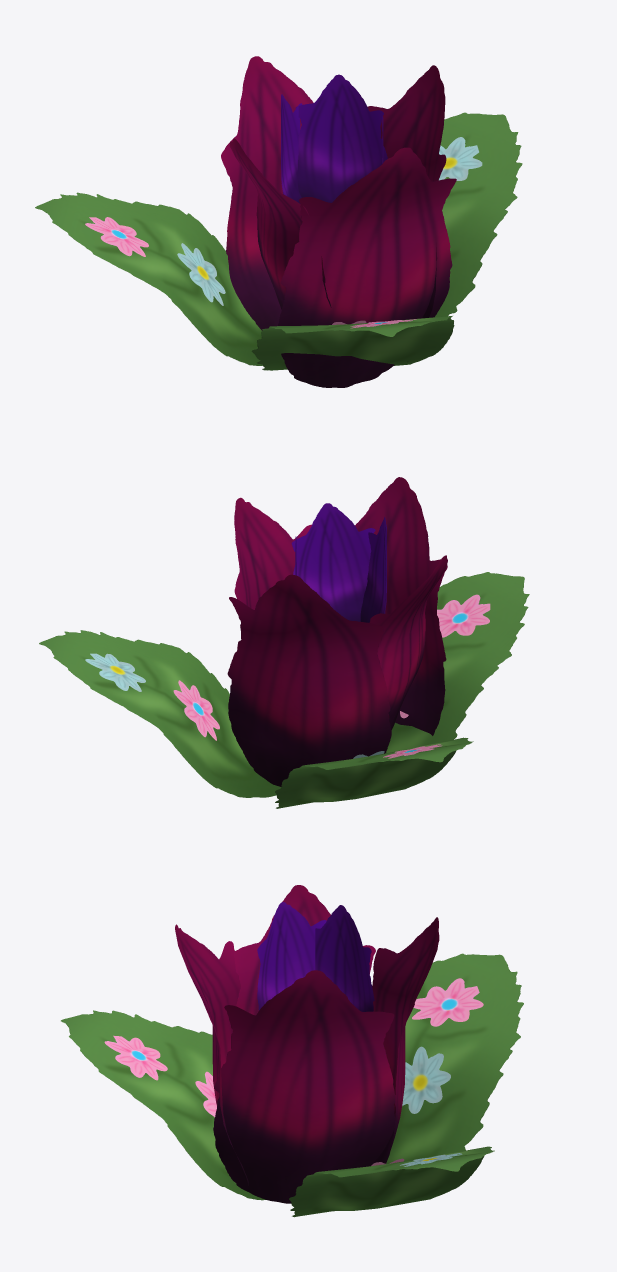
The model's file is FlorMediana2.fbx.
The picture shows the model from 3 angles, top to bottom: view 1: azimuth 30°, elevation 25°; view 2: azimuth 150°, elevation 25°; view 3: azimuth 270°, elevation 25°; orthographic projection. The views are drawn at different scales.
Visible parts, largest first — view 1: Flor5; view 2: Flor5; view 3: Flor5.
Part boxes in pixels (<box>): Flor5: <box>35,56,522,387</box>; Flor5: <box>39,477,529,808</box>; Flor5: <box>61,885,523,1217</box>.
Bounding box in the file's own units: 61.99 × 30.65 × 57.42.
